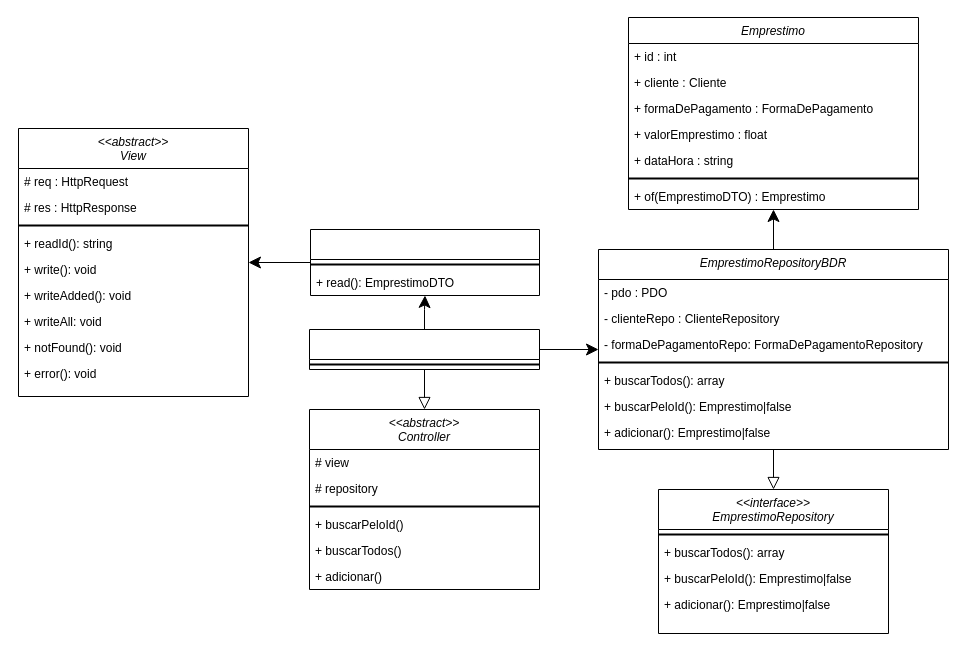
Image size: 966x651. Some labels were removed from this diagram. The box of each missing label's shape, as (x1, y1, x2, y2) in pixels:
EmprestimoController: (308, 328, 540, 370)
EmprestimoView: (310, 228, 540, 296)
